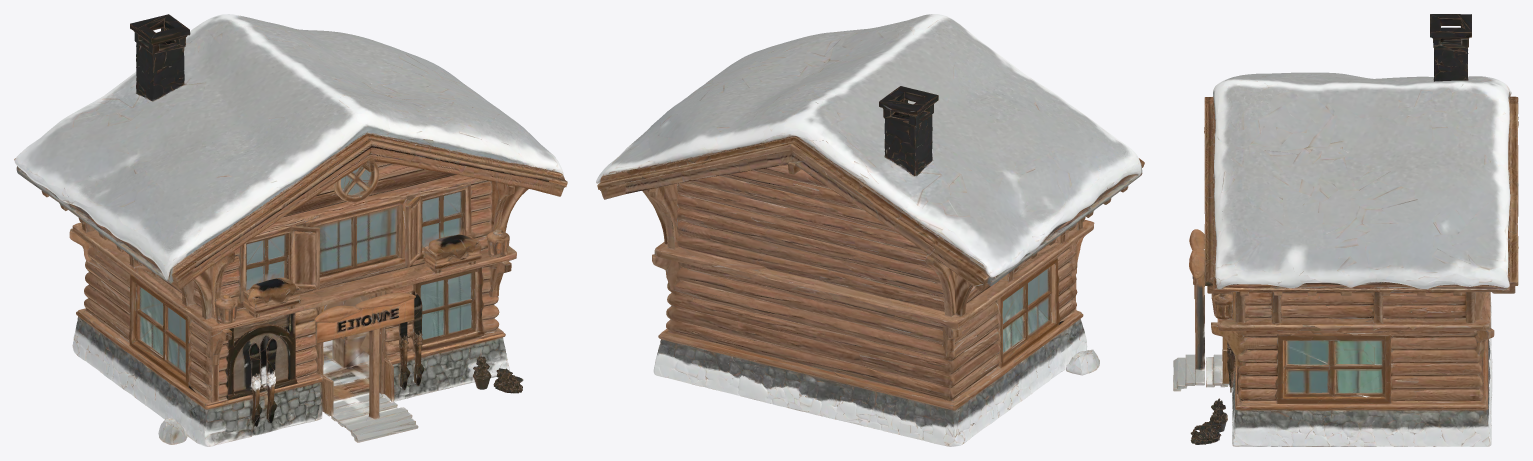
The model's file is rental_shop.glb.
3 renders of one model, left to right at view 1: azimuth 30°, elevation 25°; view 2: azimuth 150°, elevation 25°; view 3: azimuth 270°, elevation 25°, orthographic. The views are drawn at different scales.
Bounding box in the file's own units: 1.9 × 1.45 × 1.44.
Materials: 1 (1 with a texture image).
